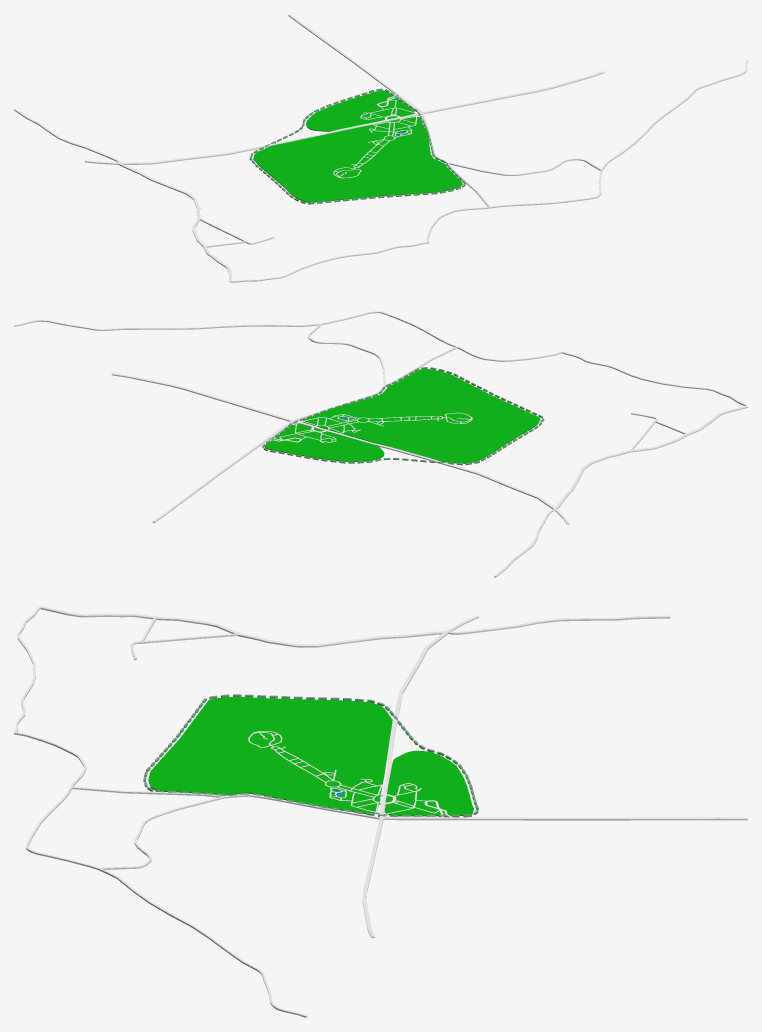
3 renders of one model, top to bottom at view 1: azimuth 30°, elevation 25°; view 2: azimuth 150°, elevation 25°; view 3: azimuth 270°, elevation 25°, orthographic. The views are drawn at different scales.
Visible parts, largest first — view 1: green, R8, R4, LK, R6, R11; view 2: green, R8, R4, LK, R11, R6; view 3: green, R8, R4, R6, LK, R11.
Part boxes in pixels (<box>): green: <box>253,90,462,202</box>; R8: <box>200,60,747,282</box>; R4: <box>118,71,604,282</box>; LK: <box>249,88,465,204</box>; R6: <box>14,14,423,164</box>; R11: <box>333,99,416,178</box>; green: <box>265,369,540,463</box>; R8: <box>14,311,747,450</box>; R4: <box>111,373,747,509</box>; LK: <box>262,367,544,465</box>; R11: <box>279,412,472,442</box>; R6: <box>152,420,569,577</box>; green: <box>148,697,473,816</box>; R8: <box>14,606,453,1017</box>; R4: <box>41,606,450,938</box>; R6: <box>381,615,747,820</box>; LK: <box>143,694,478,817</box>; R11: <box>248,731,440,815</box>.
Bounding box in the file's own units: 23.89 × 0.051 × 18.05.
